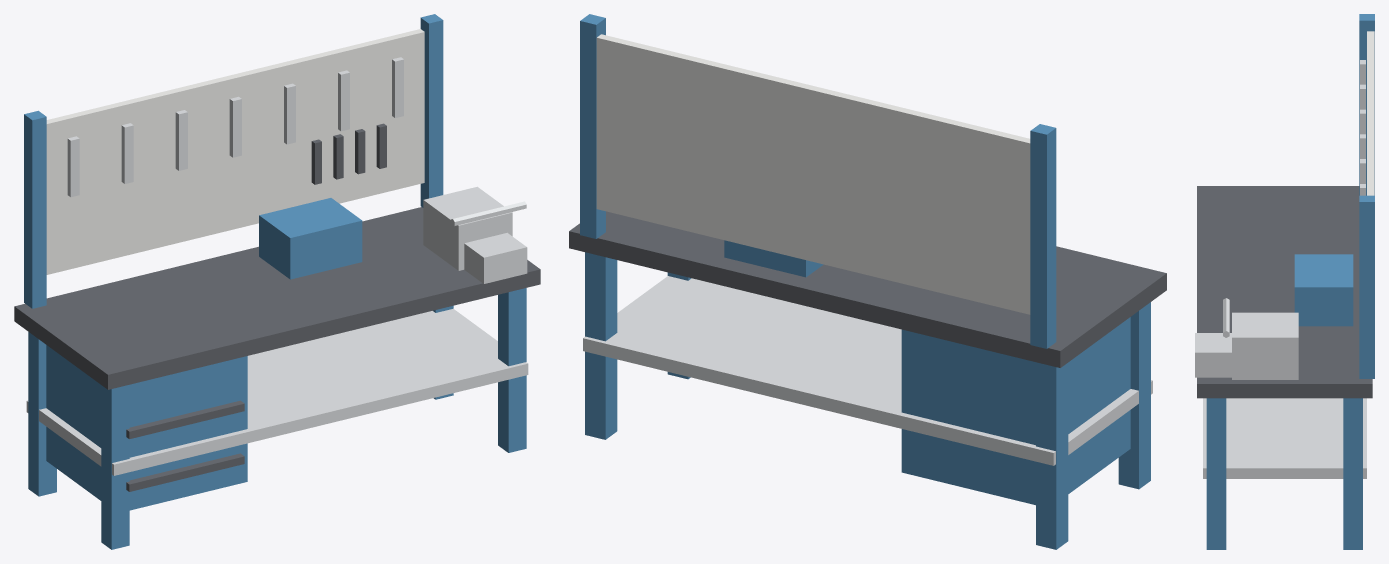
File: shipyard-and-dry-dock-shipyard-and-dry-dock-fitters-wo-14a123d7__37960.glb
3 views of the same model, side by side, from view 1: azimuth 30°, elevation 25°; view 2: azimuth 150°, elevation 25°; view 3: azimuth 270°, elevation 25° (orthographic). The views are drawn at different scales.
Visible parts, largest first — view 1: shipyard-and-dry-dock-fitters-workbench; view 2: shipyard-and-dry-dock-fitters-workbench; view 3: shipyard-and-dry-dock-fitters-workbench.
Boxes of the visible parts, x1,y1,x2,y2 form: shipyard-and-dry-dock-fitters-workbench: (14, 14, 540, 549); shipyard-and-dry-dock-fitters-workbench: (569, 14, 1166, 549); shipyard-and-dry-dock-fitters-workbench: (1195, 14, 1374, 549).
Size of the model in its own units: 2.4 by 1.96 by 0.9212.
